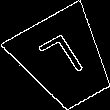L_SE: (36, 31, 92, 90)
